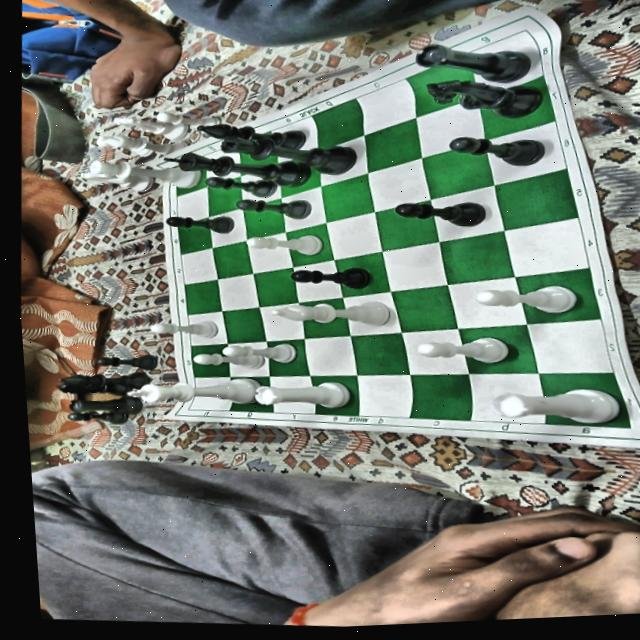BlackBishop: (194, 117, 309, 158)
BlackKing: (162, 143, 311, 195)
BlackKnight: (420, 72, 547, 125)
BlackPawn: (447, 130, 547, 169), (394, 194, 488, 230), (289, 261, 372, 292), (200, 171, 278, 200), (235, 194, 313, 221), (164, 210, 236, 236)
BlackQueen: (218, 128, 359, 181)
BlackRook: (414, 37, 535, 87)
WhiteBishop: (270, 292, 390, 331), (96, 129, 188, 161)
WhiteKing: (123, 369, 262, 410)
WhiteKnight: (107, 111, 188, 144), (79, 166, 154, 194)
WhitePawn: (472, 279, 580, 317), (414, 328, 514, 369), (219, 336, 298, 367), (244, 228, 324, 257), (187, 345, 265, 371), (145, 315, 222, 341), (152, 108, 220, 136)
WhiteQueen: (87, 154, 204, 195)
WhiteRook: (492, 380, 622, 429), (254, 374, 353, 411)
